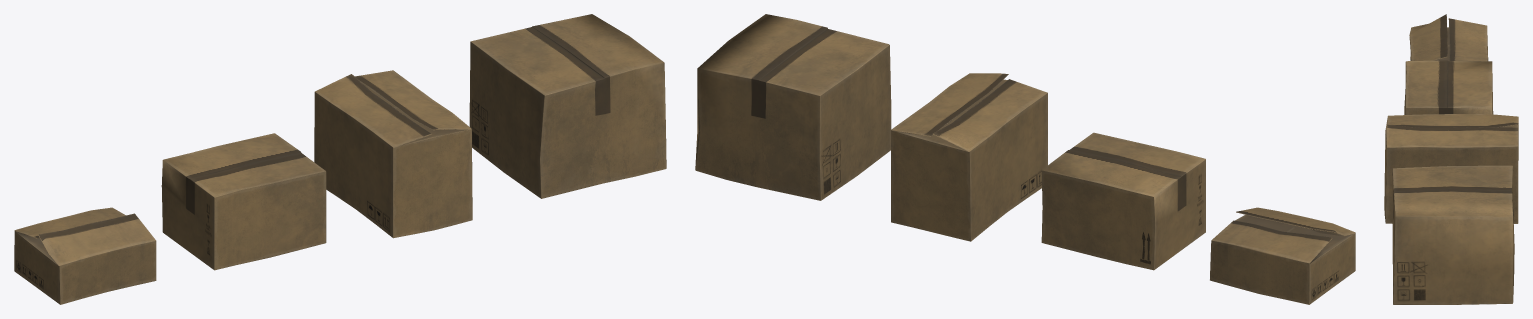
File: Cardboard_box.fbx
3 renders of one model, left to right at view 1: azimuth 30°, elevation 25°; view 2: azimuth 150°, elevation 25°; view 3: azimuth 270°, elevation 25°, orthographic. The views are drawn at different scales.
Parts seen in each view (by area): view 1: Cardboard_box_1, Cardboard_box_5, Cardboard_box_3, Cardboard_box_2; view 2: Cardboard_box_1, Cardboard_box_5, Cardboard_box_3, Cardboard_box_2; view 3: Cardboard_box_1, Cardboard_box_5, Cardboard_box_3, Cardboard_box_2.
Boxes of the visible parts, x1,y1,x2,y2 form: Cardboard_box_1: (469, 14, 666, 198); Cardboard_box_5: (314, 70, 472, 238); Cardboard_box_3: (161, 133, 326, 270); Cardboard_box_2: (14, 207, 156, 304); Cardboard_box_1: (695, 14, 891, 200); Cardboard_box_5: (891, 73, 1047, 241); Cardboard_box_3: (1041, 132, 1205, 270); Cardboard_box_2: (1210, 207, 1355, 304); Cardboard_box_1: (1392, 165, 1514, 304); Cardboard_box_5: (1384, 114, 1518, 223); Cardboard_box_3: (1404, 60, 1493, 114); Cardboard_box_2: (1409, 14, 1488, 61).
Size of the model in its own units: 375 by 65.5 by 87.28.
1 material, 1 textured.
